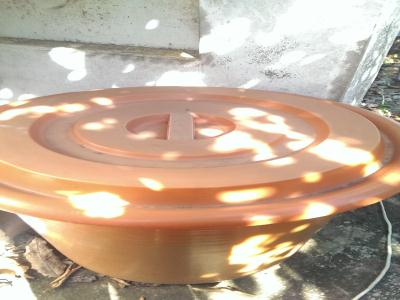bucket: (1, 84, 400, 284)
